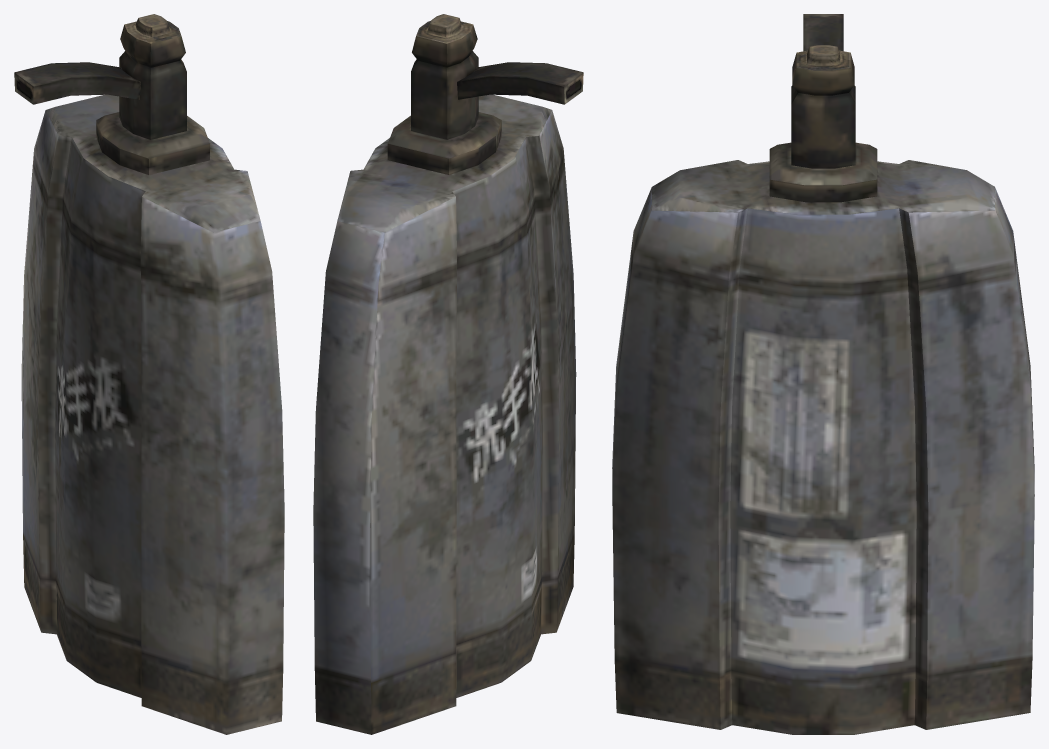
The model's file is soap_bottle.DAE.
3 renders of one model, left to right at view 1: azimuth 30°, elevation 25°; view 2: azimuth 150°, elevation 25°; view 3: azimuth 270°, elevation 25°, orthographic. The views are drawn at different scales.
Parts seen in each view (by area): view 1: LP; view 2: LP; view 3: LP.
Boxes of the visible parts, <box> form: LP: <box>14,14,284,734</box>; LP: <box>313,14,583,734</box>; LP: <box>612,14,1034,734</box>.
Size of the model in its own units: 0.0935 by 0.2803 by 0.1655.
